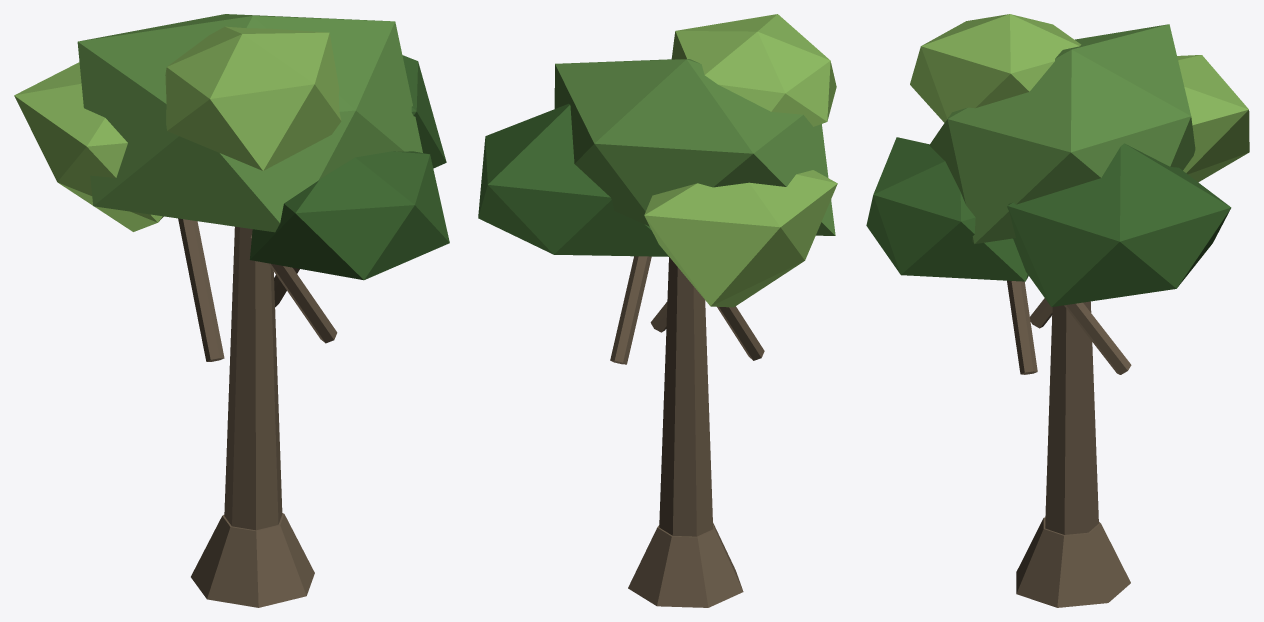
Rendered from jungle_tree.glb.
The picture shows the model from 3 angles, left to right: view 1: azimuth 30°, elevation 25°; view 2: azimuth 150°, elevation 25°; view 3: azimuth 270°, elevation 25°; orthographic projection. The views are drawn at different scales.
Visible parts, largest first — view 1: jungle_tree; view 2: jungle_tree; view 3: jungle_tree.
Part boxes in pixels (<box>): jungle_tree: <box>14,14,449,607</box>; jungle_tree: <box>478,14,837,607</box>; jungle_tree: <box>866,14,1249,607</box>.
Bounding box in the file's own units: 7.16 × 11.03 × 6.98.
